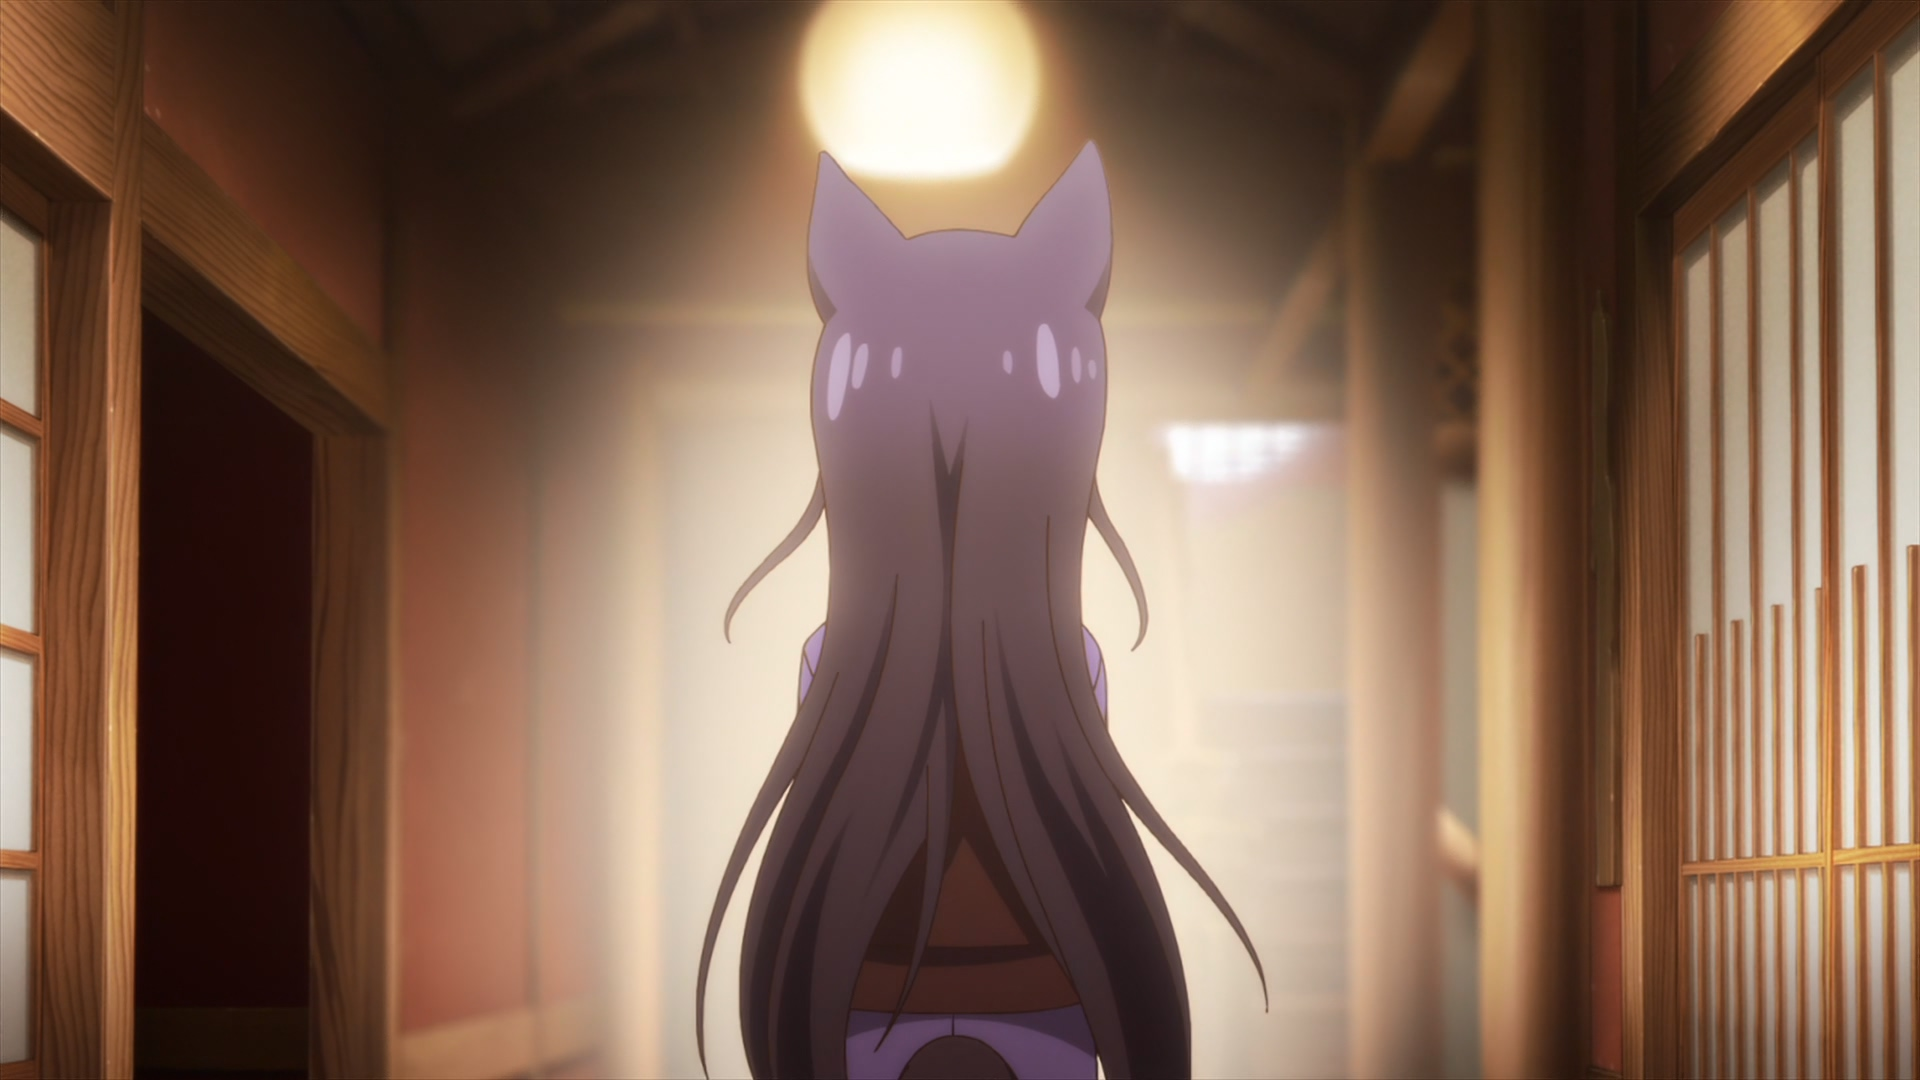皋: (696, 140, 1269, 1080)
